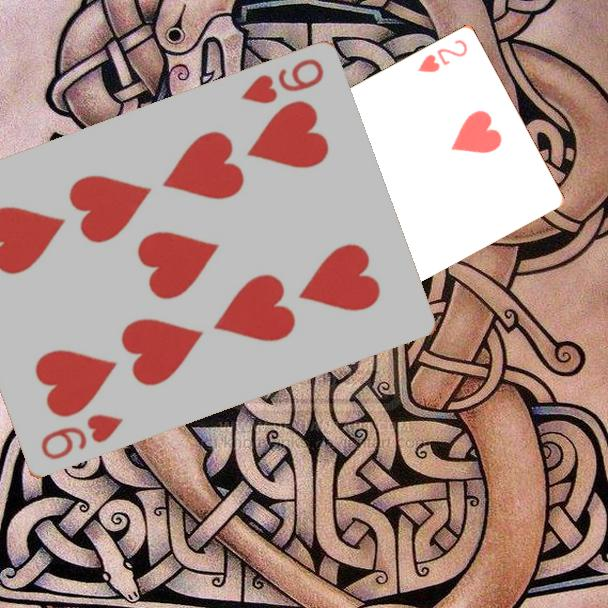h02: (414, 35, 471, 75)
h09: (237, 55, 327, 108), (37, 411, 126, 464)
